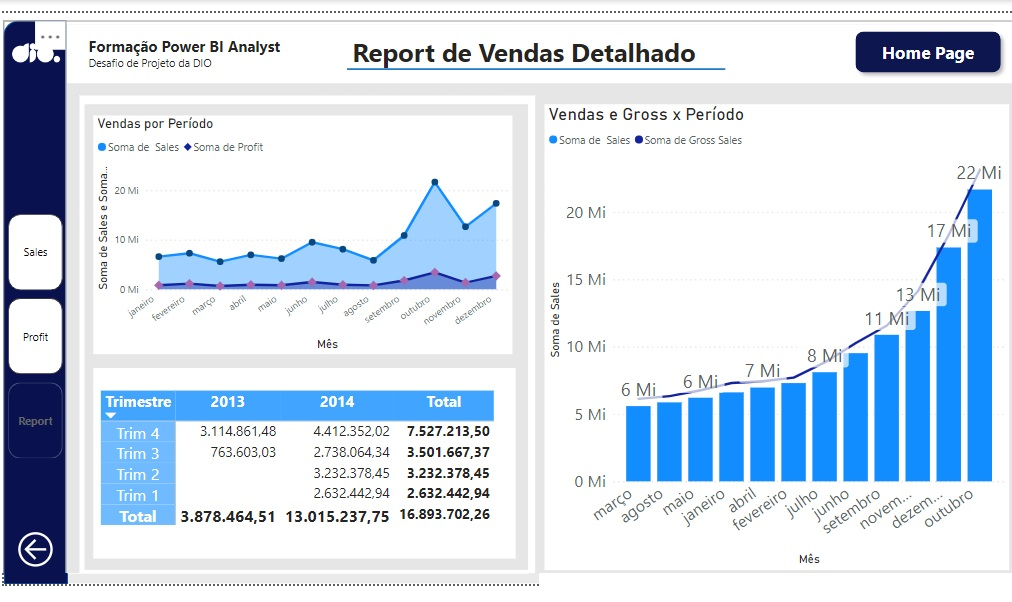

What the dashboard file says about the page in this screenshot:
{"tool":"powerbi","page":{"name":"Report","canvas":[1280,720],"ordinal":2},"visuals":[{"type":"group","id":"g1","title":"Layout","box":[7.9,8.9,1272.1,712.2],"z":0},{"type":"shape","box":[8.9,13.3,1271.1,706.7],"z":0,"group":"g1"},{"type":"actionButton","title":"Home Page","box":[1064.7,14.6,199.6,69.2],"z":0,"group":"g4"},{"type":"shape","box":[437.3,51.5,473,37.1],"z":0,"group":"g3"},{"type":"shape","box":[103.6,103.6,569.9,601.9],"z":0,"group":"g2"},{"type":"shape","box":[7.9,8.9,78.9,712.2],"z":1000,"group":"g1"},{"type":"textbox","box":[438.7,21.3,470.2,52.2],"z":1000,"group":"g3"},{"type":"lineClusteredColumnComboChart","title":"Vendas e Gross x Período","fields":{"Category":["financials.Date.Variation.Hierarquia de datas.Mês"],"Y":["Sum(financials. Sales)"],"Y2":["Sum(financials.Gross Sales)"]},"box":[684.2,114.3,580.6,582.1],"z":1000},{"type":"shape","box":[110.3,114.6,554.7,582.1],"z":1000,"group":"g2"},{"type":"group","id":"g2","title":"Detalhes venda x profit","box":[103.6,103.6,569.9,601.9],"z":2000},{"type":"shape","box":[120.1,443.5,528.4,238.2],"z":2000,"group":"g2"},{"type":"textbox","title":"Título do report","box":[109.7,22.9,377.9,64],"z":3000},{"type":"areaChart","title":"Vendas por Período","fields":{"Category":["financials.Date.Variation.Hierarquia de datas.Trimestre","financials.Date.Variation.Hierarquia de datas.Mês"],"Y":["Sum(financials. Sales)","Sum(financials.Profit)"]},"box":[120.9,128.6,524.2,298.7],"z":3000,"group":"g2"},{"type":"shape","box":[86.9,12.8,1193.1,74.1],"z":4000,"group":"g1"},{"type":"group","id":"g3","title":"Sales report","box":[437.3,21.3,472.4,67],"z":4000},{"type":"pivotTable","fields":{"Columns":["financials.Date.Variation.Hierarquia de datas.Ano"],"Rows":["financials.Date.Variation.Hierarquia de datas.Trimestre"],"Values":["Sum(financials.Profit)"]},"box":[126,468.4,509.5,189.9],"z":4000,"group":"g2"},{"type":"actionButton","box":[20.6,622.4,55.6,96.9],"z":6000},{"type":"group","id":"g4","title":"Botão home","box":[1064.7,14.6,199.6,69.2],"z":7000},{"type":"pageNavigator","box":[13.3,252.2,68.9,305.6],"z":7001},{"type":"image","title":"logo_dio","box":[13.3,26.7,70,46.7],"z":7002}]}

Visuals, with their boxes on the page's 1280x720 design canvas (x1, y1, x2, y2). These are canvas units, not pixel positions in the 1012x602 screenshot, which may show the page scaled, cropped or inside an application window:
"Layout" group: [8,9,1280,721]
shape: [9,13,1280,720]
"Home Page" actionButton: [1065,15,1264,84]
shape: [437,52,910,89]
shape: [104,104,674,706]
shape: [8,9,87,721]
textbox: [439,21,909,74]
"Vendas e Gross x Período" lineClusteredColumnComboChart: [684,114,1265,696]
shape: [110,115,665,697]
"Detalhes venda x profit" group: [104,104,674,706]
shape: [120,444,648,682]
"Título do report" textbox: [110,23,488,87]
"Vendas por Período" areaChart: [121,129,645,427]
shape: [87,13,1280,87]
"Sales report" group: [437,21,910,88]
pivotTable - financials.Date.Variation.Hierarquia de datas.Ano x financials.Date.Variation.Hierarquia de datas.Trimestre: [126,468,636,658]
actionButton: [21,622,76,719]
"Botão home" group: [1065,15,1264,84]
pageNavigator: [13,252,82,558]
"logo_dio" image: [13,27,83,73]
